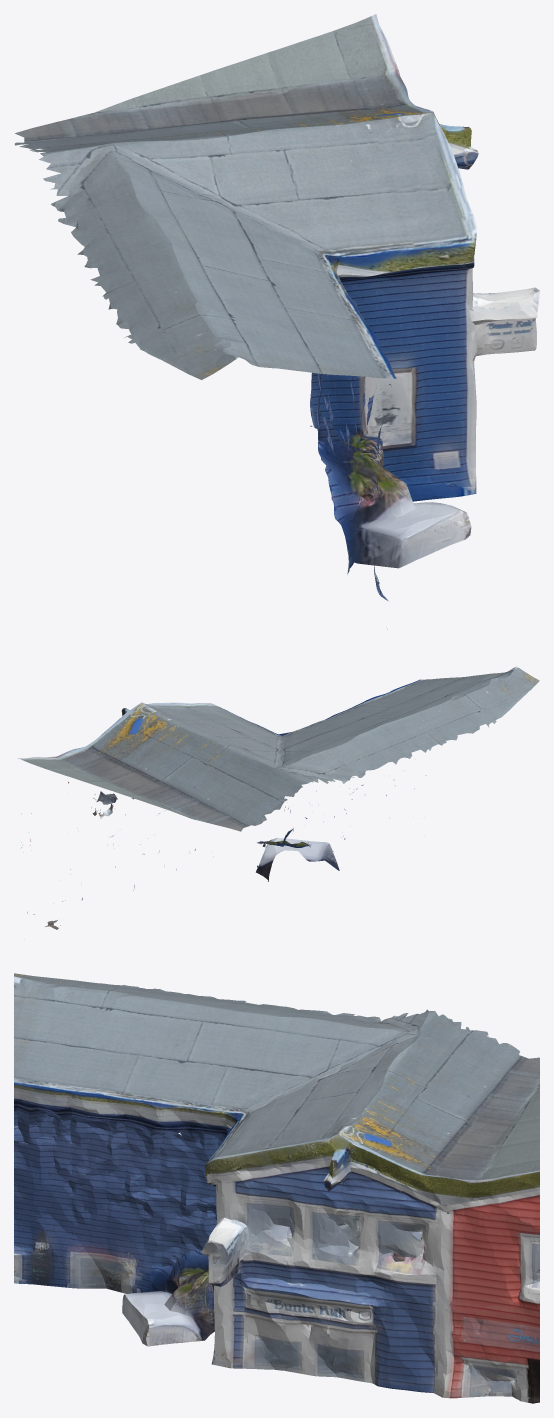
3 views of the same model, one above another, from view 1: azimuth 30°, elevation 25°; view 2: azimuth 150°, elevation 25°; view 3: azimuth 270°, elevation 25° (orthographic). The views are drawn at different scales.
Size of the model in its own units: 7.41 by 4.36 by 8.36.
3 materials, 3 textured.
